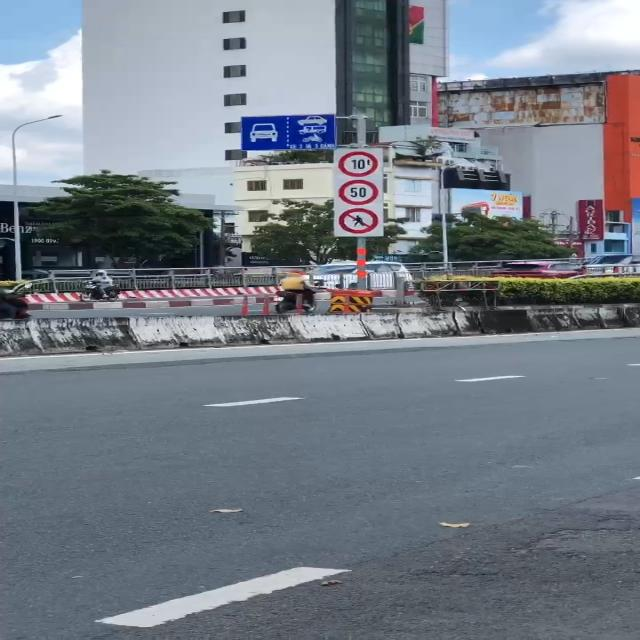Bien bao cam nguoi di bo: (337, 208, 387, 238)
Bien bao toc do toi da cho phep: (334, 177, 383, 206)
